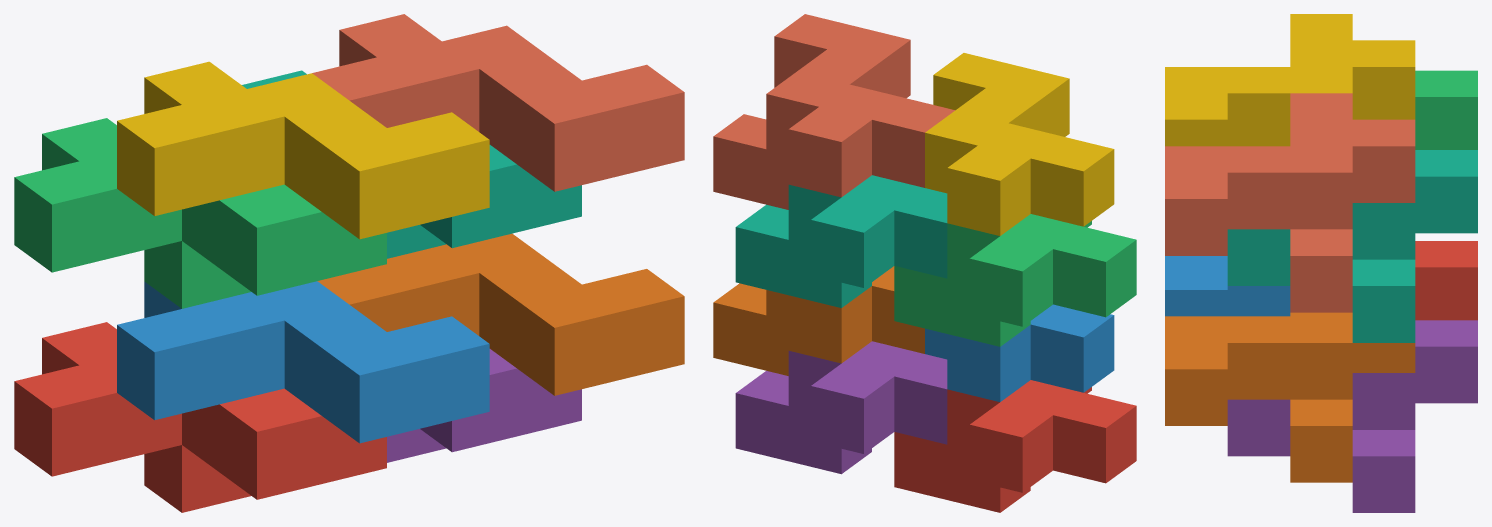
File: tiling.obj
3 renders of one model, left to right at view 1: azimuth 30°, elevation 25°; view 2: azimuth 150°, elevation 25°; view 3: azimuth 270°, elevation 25°, orthographic. The views are drawn at different scales.
Visible parts, largest first — view 1: copy_1_domain_4, copy_1_domain_2, copy_1_domain_8, copy_1_domain_3, copy_1_domain_1, copy_1_domain_6, copy_1_domain_7, copy_1_domain_5; view 2: copy_1_domain_8, copy_1_domain_4, copy_1_domain_3, copy_1_domain_1, copy_1_domain_7, copy_1_domain_5, copy_1_domain_6, copy_1_domain_2; view 3: copy_1_domain_8, copy_1_domain_6, copy_1_domain_4, copy_1_domain_5, copy_1_domain_7, copy_1_domain_2, copy_1_domain_1, copy_1_domain_3.
Boxes of the visible parts, box(x1,y1,x2,y2) form: copy_1_domain_4: box(117, 61, 489, 239); copy_1_domain_2: box(117, 281, 489, 443); copy_1_domain_8: box(312, 14, 684, 191); copy_1_domain_3: box(14, 118, 386, 308); copy_1_domain_1: box(14, 322, 386, 512); copy_1_domain_6: box(317, 233, 684, 395); copy_1_domain_7: box(242, 70, 581, 258); copy_1_domain_5: box(387, 349, 581, 462); copy_1_domain_8: box(713, 14, 954, 209); copy_1_domain_4: box(925, 53, 1114, 235); copy_1_domain_3: box(894, 214, 1136, 346); copy_1_domain_1: box(894, 380, 1136, 512); copy_1_domain_7: box(735, 175, 947, 307); copy_1_domain_5: box(735, 341, 947, 474); copy_1_domain_6: box(713, 266, 924, 375); copy_1_domain_2: box(925, 304, 1114, 401); copy_1_domain_8: box(1165, 93, 1415, 312); copy_1_domain_6: box(1165, 312, 1415, 482); copy_1_domain_4: box(1165, 14, 1415, 146); copy_1_domain_5: box(1227, 320, 1477, 512); copy_1_domain_7: box(1227, 150, 1477, 342); copy_1_domain_2: box(1165, 256, 1290, 316); copy_1_domain_1: box(1415, 241, 1477, 320); copy_1_domain_3: box(1415, 70, 1477, 149).
Bounding box in the file's own units: 8 × 6 × 5.
